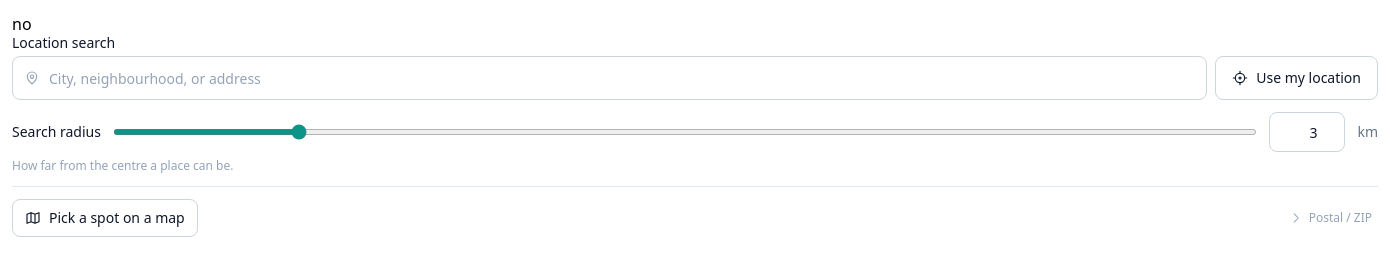
it: <LocationField /> — how much the browser's fix can be trusted › refuses a fix the browser itself says is hundreds of km wide
The image size is (1390, 276).
Click the button "Use my location": (1297, 78) [1215,56,1378,100]
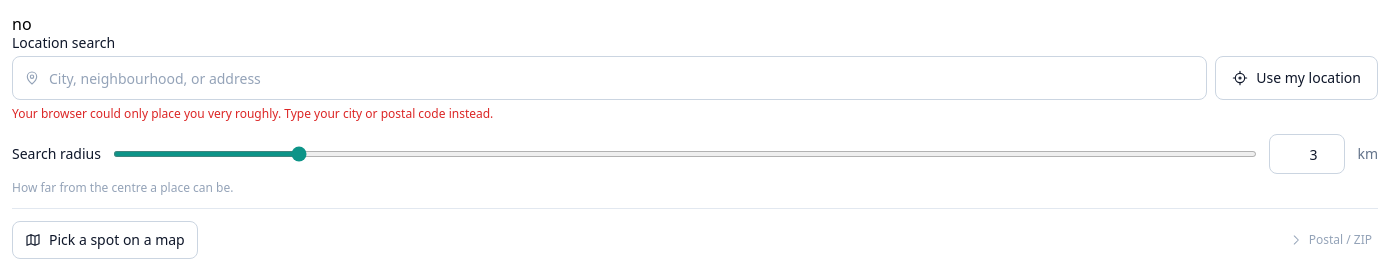
Expected: the text "only place you very roughly" is shown, [12,105,493,122]
